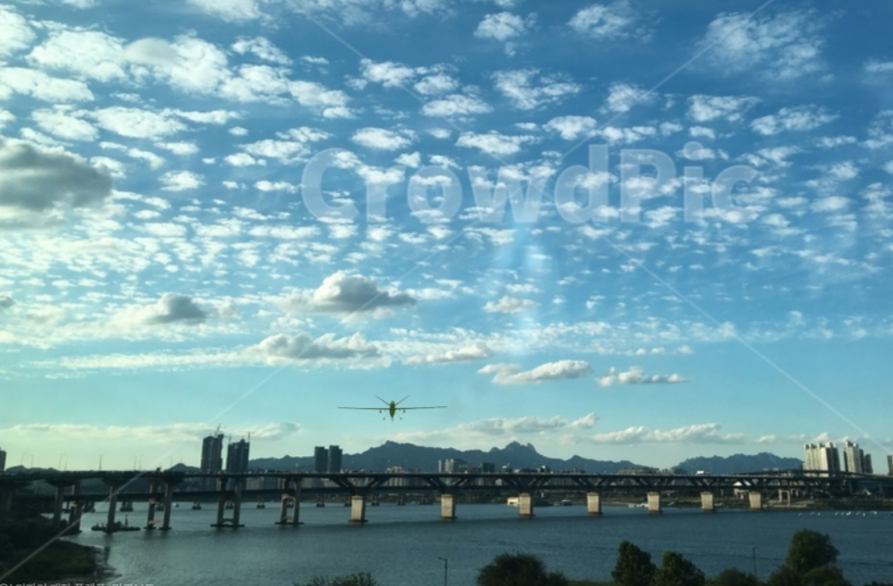military drone: (336, 395, 447, 423)
